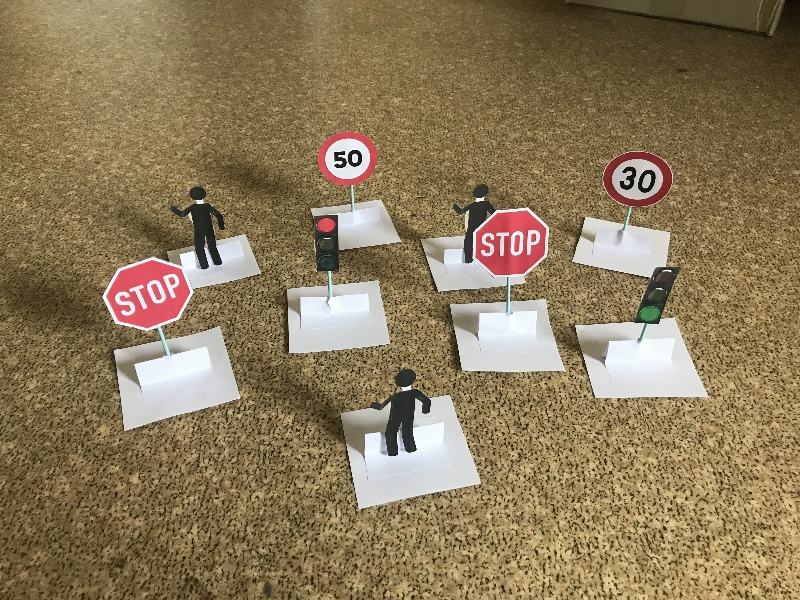green light: (633, 266, 680, 359)
person: (369, 368, 435, 458), (167, 185, 231, 272), (450, 186, 494, 263)
red light: (311, 215, 349, 309)
speed limit 30: (598, 150, 676, 258)
speed limit 50: (315, 131, 374, 226)
stop sign: (101, 257, 196, 386), (472, 210, 553, 331)
